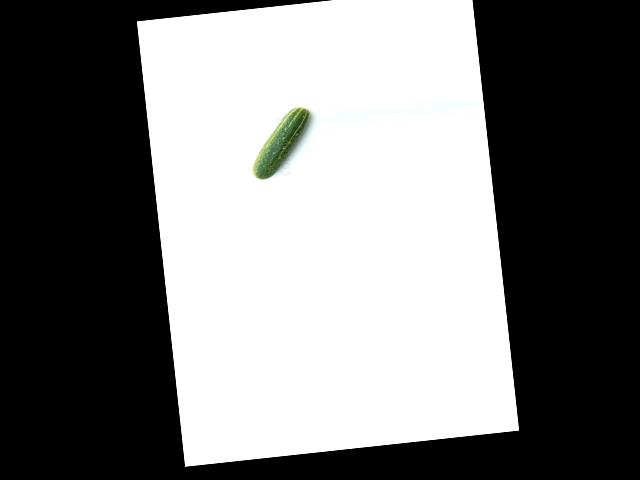cucumber: (246, 105, 316, 180)
